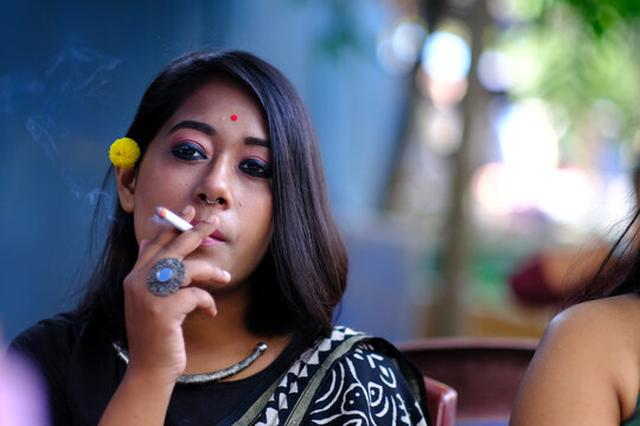Cigarette: (154, 205, 194, 233)
